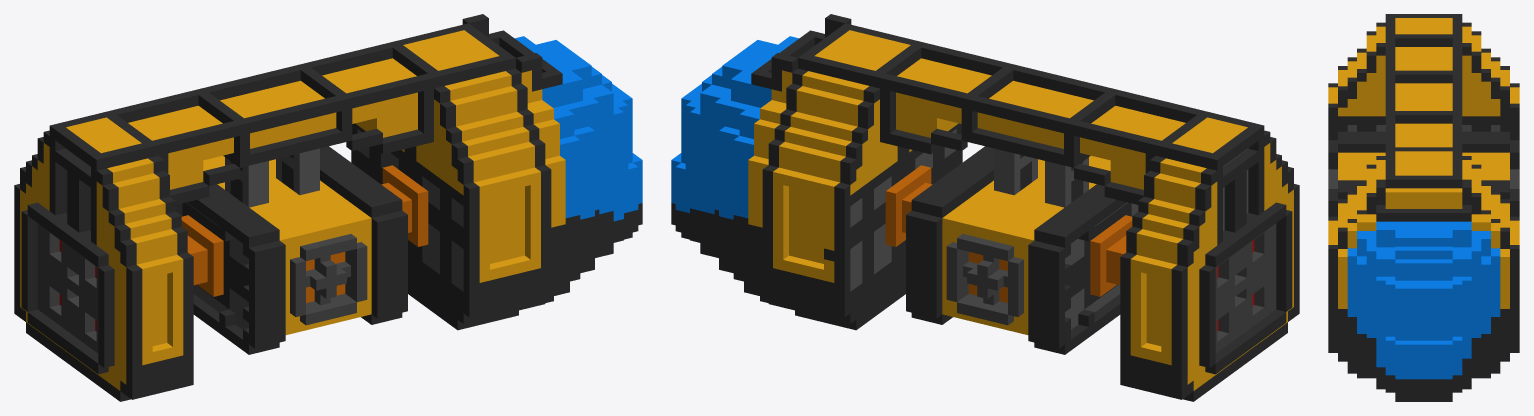
The model's file is ConstructionShip#1.obj.
3 renders of one model, left to right at view 1: azimuth 30°, elevation 25°; view 2: azimuth 150°, elevation 25°; view 3: azimuth 270°, elevation 25°, orthographic. The views are drawn at different scales.
Size of the model in its own units: 5.5 by 2.2 by 2.
Materials: 1 (1 with a texture image).
